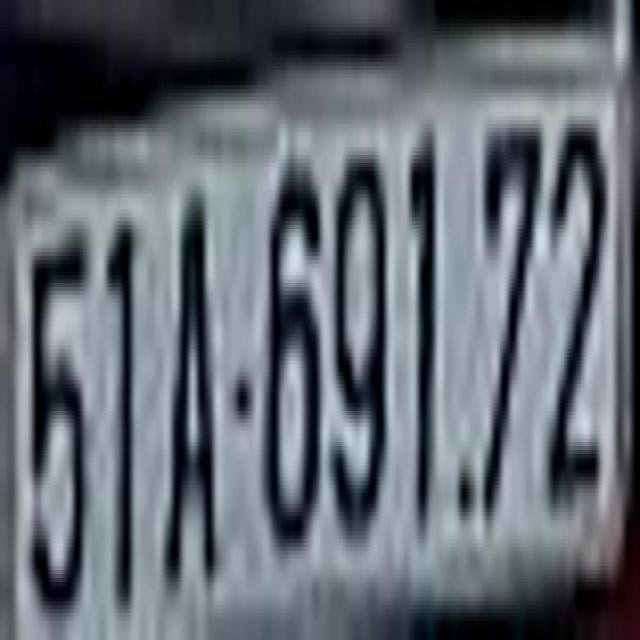1: (104, 200, 137, 611), (406, 114, 438, 534)
2: (549, 107, 606, 506)
5: (28, 217, 89, 617)
6: (265, 147, 322, 551)
7: (480, 109, 540, 524)
9: (332, 134, 388, 549)
A: (164, 165, 218, 588)
